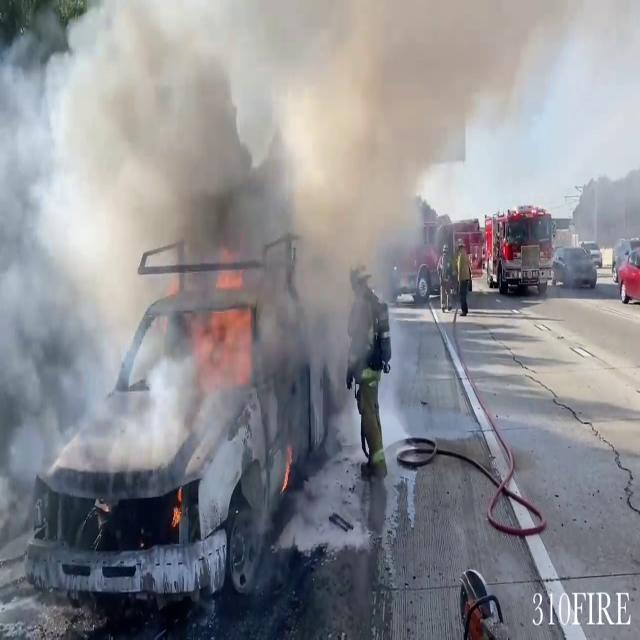Smoke: (0, 0, 566, 459)
